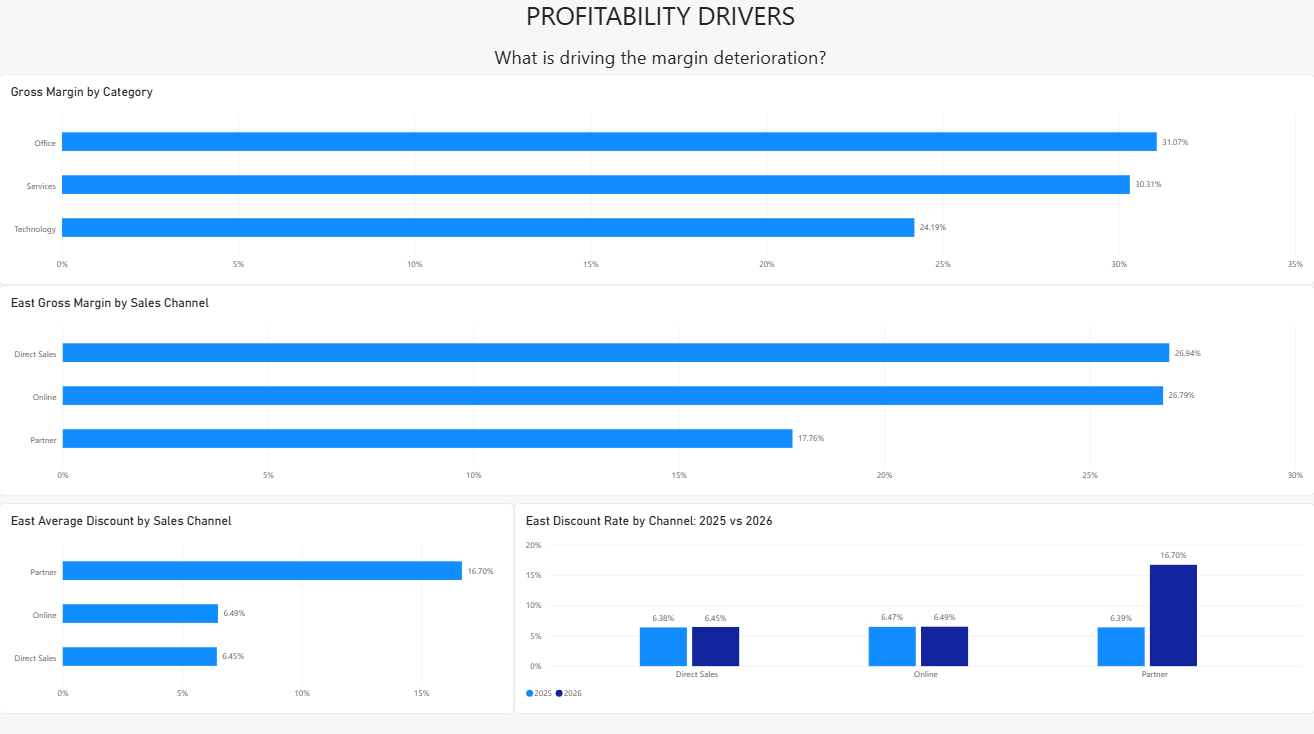

The dashboard page shown, as its layout file describes it:
{"tool":"powerbi","page":{"name":"Performance Drivers","canvas":[1920,1080],"ordinal":1},"visuals":[{"type":"textbox","box":[10.2,0,1909.8,140.1],"z":0},{"type":"clusteredBarChart","title":"Gross Margin by Category","fields":{"Category":["sales_analysis1.category"],"Y":["sales_analysis1.Gross Margin %"]},"box":[0,110.9,1920,307.8],"z":1},{"type":"clusteredBarChart","title":"East Gross Margin by Sales Channel","fields":{"Category":["sales_analysis1.sales_channel"],"Y":["sales_analysis1.Gross Margin %"]},"box":[0,418.7,1920,307.8],"z":2},{"type":"clusteredBarChart","title":"East Average Discount by Sales Channel","fields":{"Category":["sales_analysis1.sales_channel"],"Y":["sales_analysis1.Avg Discount %"]},"box":[0,736.8,751.4,307.8],"z":3},{"type":"clusteredColumnChart","title":"East Discount Rate by Channel: 2025 vs 2026","fields":{"Category":["sales_analysis1.sales_channel"],"Y":["sales_analysis1.Avg Discount %"],"Series":["Calendar.Date.Variation.Date Hierarchy.Year"]},"box":[751,737,1169,308],"z":4}]}

Visuals, with their boxes in screenshot pixels (x1, y1, x2, y2), scaled from the page's 1920x1080 canvas onto the 1314x734 screenshot:
textbox: [7,0,1313,95]
"Gross Margin by Category" clusteredBarChart: [0,75,1313,285]
"East Gross Margin by Sales Channel" clusteredBarChart: [0,285,1313,494]
"East Average Discount by Sales Channel" clusteredBarChart: [0,501,514,710]
"East Discount Rate by Channel: 2025 vs 2026" clusteredColumnChart: [514,501,1313,710]
